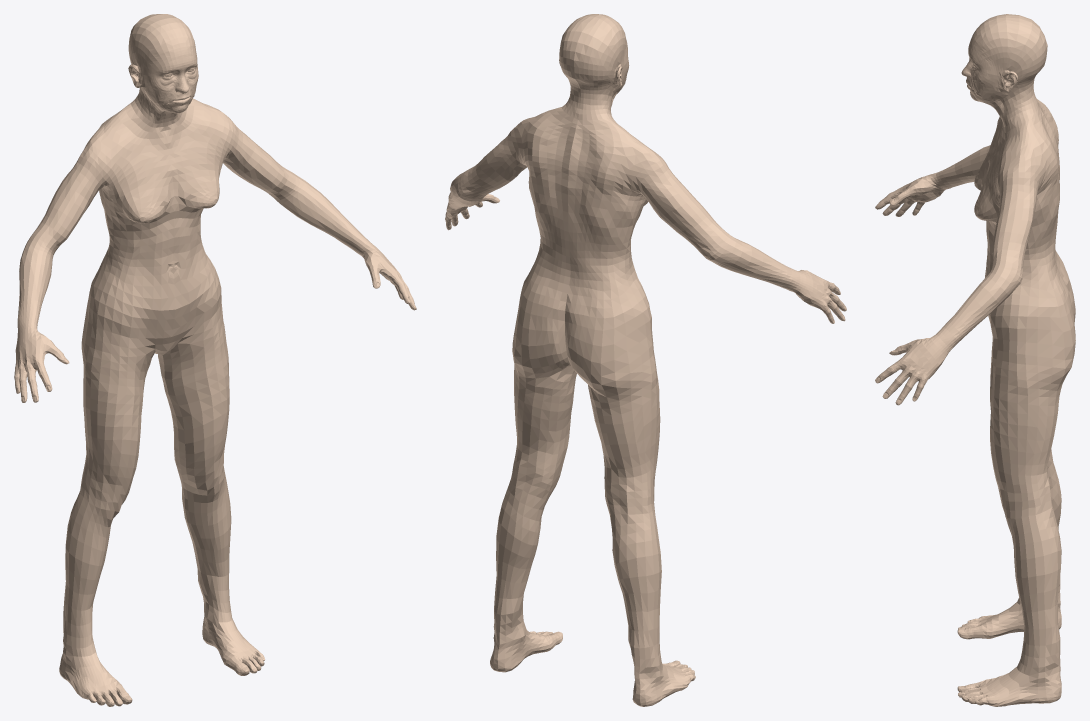
Rendered from female-elder-fit-high.glb.
The picture shows the model from 3 angles, left to right: view 1: azimuth 30°, elevation 25°; view 2: azimuth 150°, elevation 25°; view 3: azimuth 270°, elevation 25°; orthographic projection.
Parts seen in each view (by area): view 1: world; view 2: world; view 3: world.
Part boxes in pixels (x1,y1,x2,y2): world: (14,14,416,706); world: (445,14,846,706); world: (875,14,1075,706).
Size of the model in its own units: 1.13 by 1.8 by 0.504.
